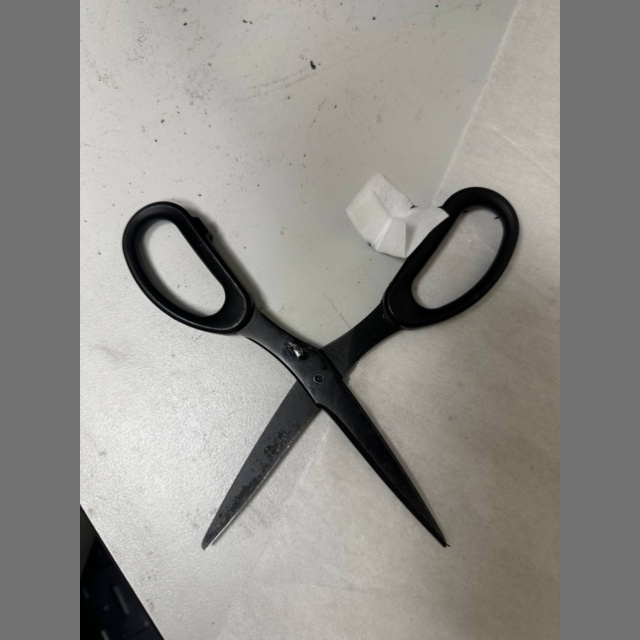scissor: (123, 186, 522, 550)
